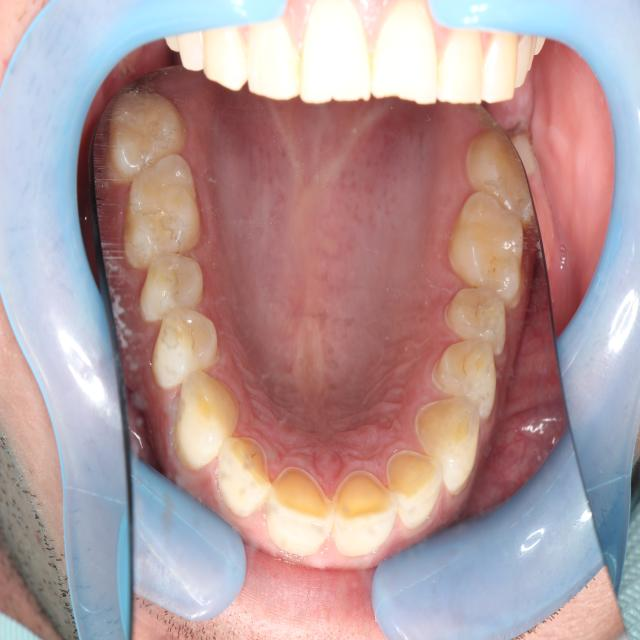tooth: (118, 152, 209, 274), (443, 183, 528, 308), (101, 85, 193, 192), (461, 124, 539, 235), (411, 384, 485, 499), (165, 368, 244, 475), (426, 329, 501, 426), (263, 459, 335, 560), (145, 305, 226, 391), (131, 245, 215, 327), (330, 465, 400, 563), (381, 434, 447, 535), (214, 428, 275, 523), (443, 272, 511, 357)
